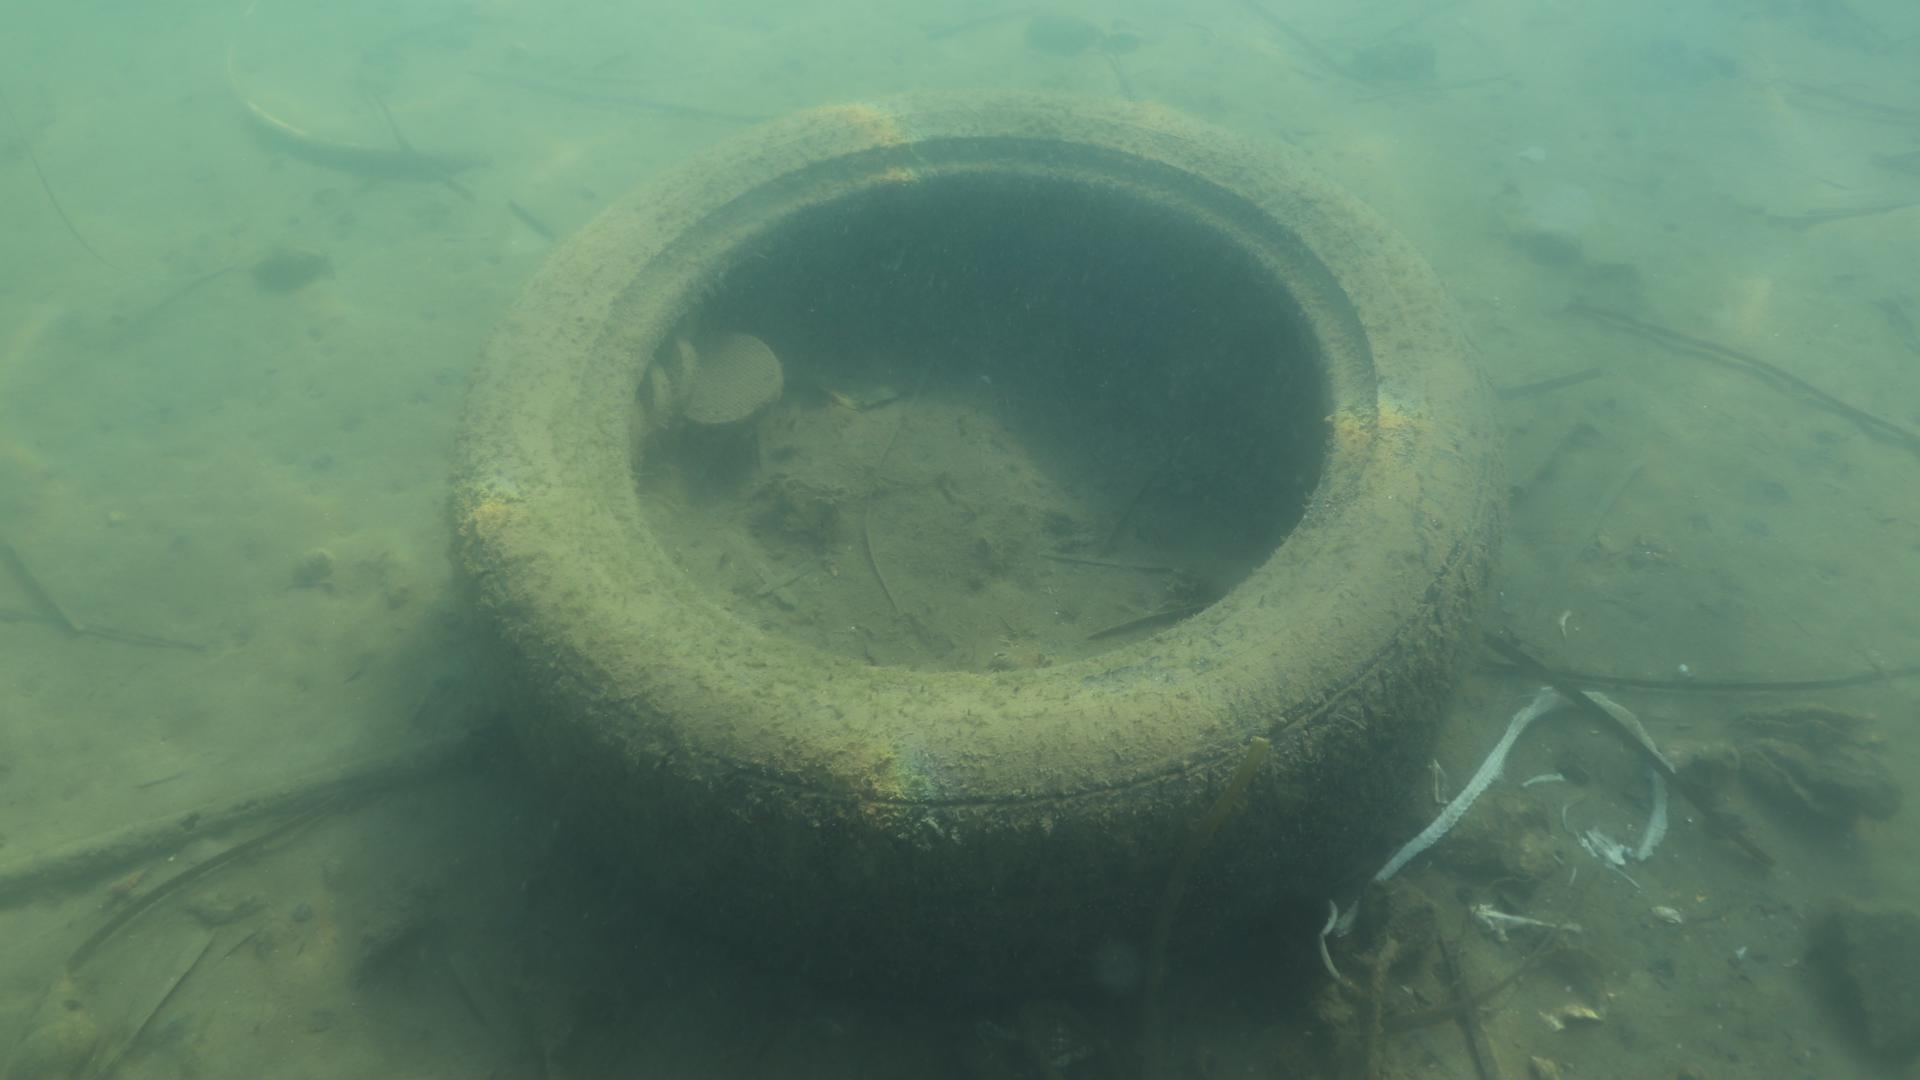tire: (450, 84, 1505, 971)
